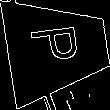P_E: (27, 27, 88, 71)
